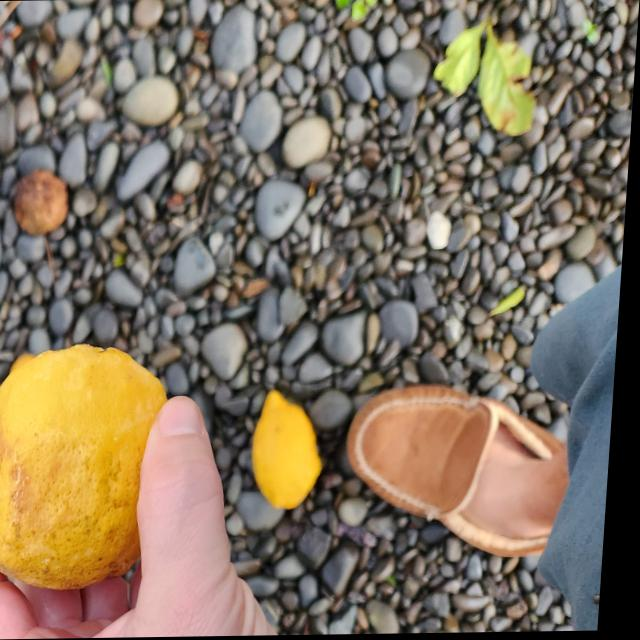lemon: (0, 344, 177, 584)
